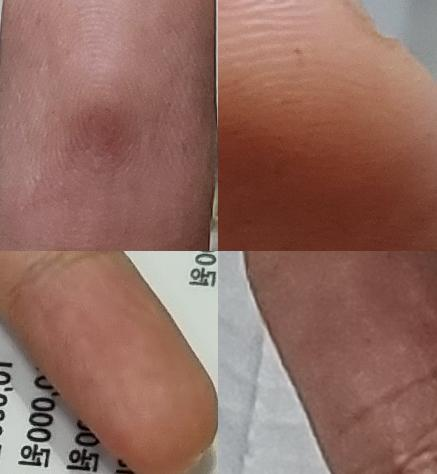Fingerprints: (218, 0, 437, 251), (0, 0, 218, 251), (13, 251, 218, 474), (243, 251, 437, 459)
